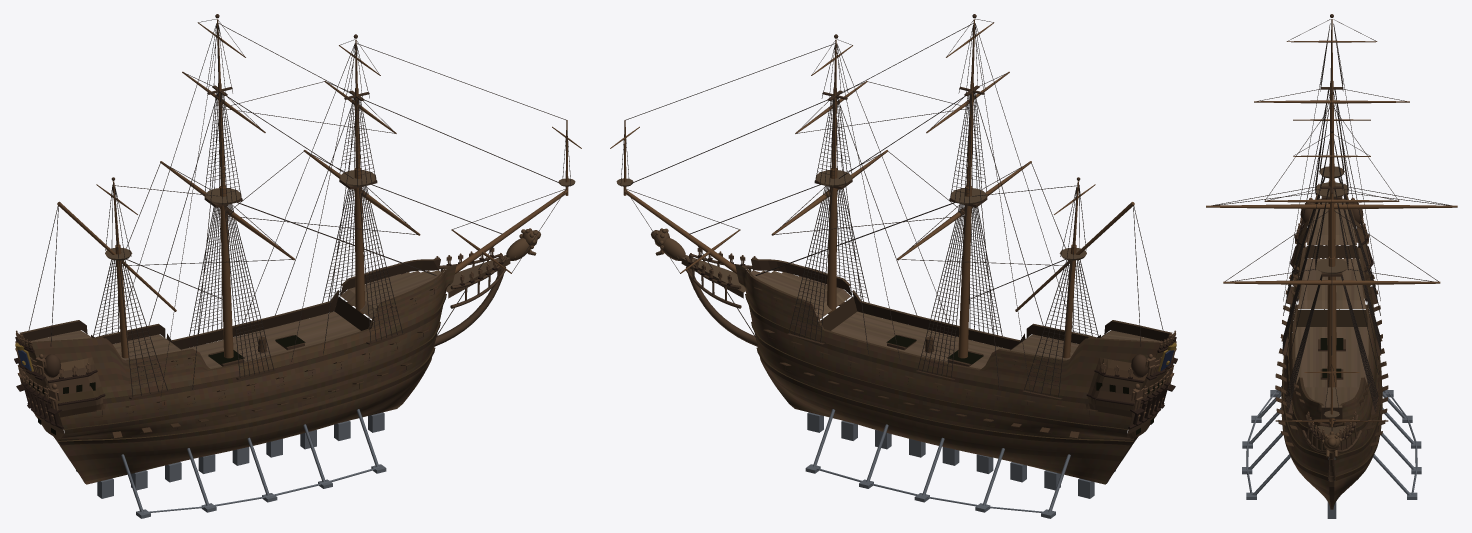
File: vasa.glb
The picture shows the model from 3 angles, left to right: view 1: azimuth 30°, elevation 25°; view 2: azimuth 150°, elevation 25°; view 3: azimuth 270°, elevation 25°; orthographic projection. The views are drawn at different scales.
Parts seen in each view (by area): view 1: hull, rigging, stern-carvings, cradle-steel; view 2: hull, rigging, stern-carvings, cradle-steel; view 3: hull, rigging, cradle-steel, stern-carvings.
Boxes of the visible parts, x1=… form: hull: x1=18, y1=14, x2=581, y2=484; rigging: x1=28, y1=19, x2=571, y2=397; stern-carvings: x1=14, y1=330, x2=108, y2=438; cradle-steel: x1=76, y1=409, x2=386, y2=518; hull: x1=610, y1=14, x2=1173, y2=484; rigging: x1=620, y1=19, x2=1163, y2=397; stern-carvings: x1=1083, y1=330, x2=1177, y2=438; cradle-steel: x1=805, y1=409, x2=1115, y2=518; hull: x1=1206, y1=14, x2=1457, y2=509; rigging: x1=1211, y1=19, x2=1451, y2=430; cradle-steel: x1=1242, y1=386, x2=1421, y2=518; stern-carvings: x1=1290, y1=183, x2=1373, y2=274.
Size of the model in its own units: 70.11 by 54.67 by 29.04.
